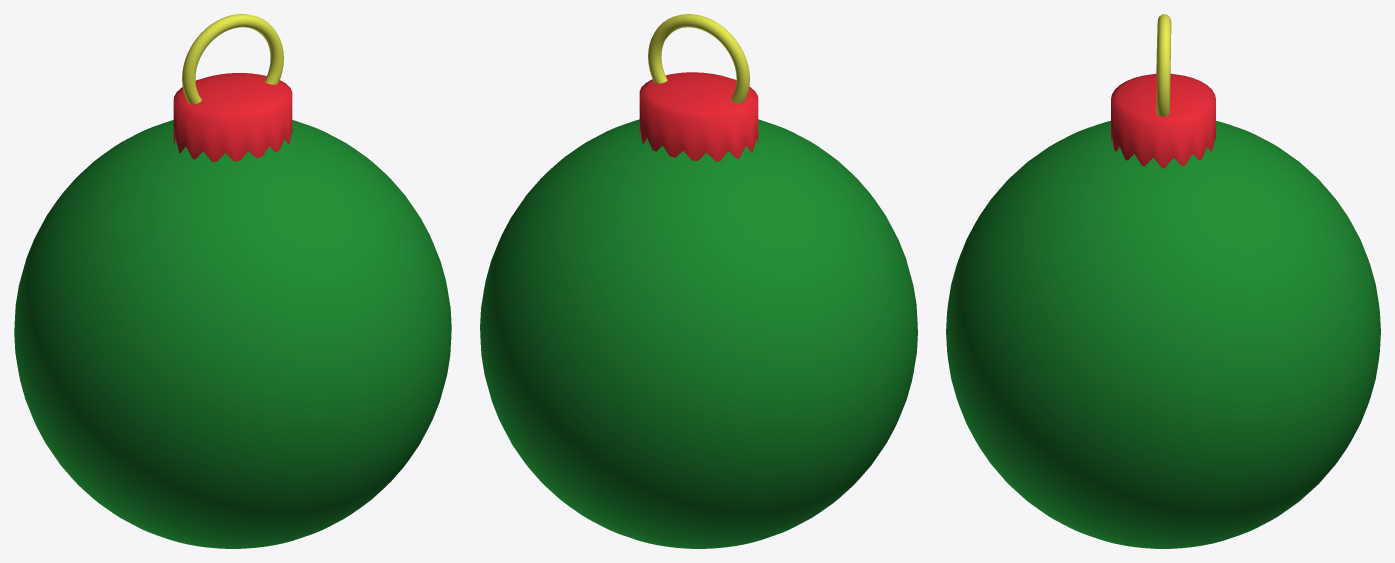
Rendered from Chritsmas Ball.glb.
3 renders of one model, left to right at view 1: azimuth 30°, elevation 25°; view 2: azimuth 150°, elevation 25°; view 3: azimuth 270°, elevation 25°, orthographic.
Parts seen in each view (by area): view 1: Sphere, Cylinder, Torus; view 2: Sphere, Cylinder, Torus; view 3: Sphere, Cylinder, Torus.
Part boxes in pixels (<box>): Sphere: <box>14,120,451,548</box>; Cylinder: <box>173,73,292,161</box>; Torus: <box>182,14,283,104</box>; Sphere: <box>480,119,917,548</box>; Cylinder: <box>639,72,758,161</box>; Torus: <box>648,14,749,103</box>; Sphere: <box>946,121,1380,548</box>; Cylinder: <box>1111,73,1215,168</box>; Torus: <box>1156,14,1171,116</box>.
Size of the model in its own units: 2 by 2.58 by 2.
